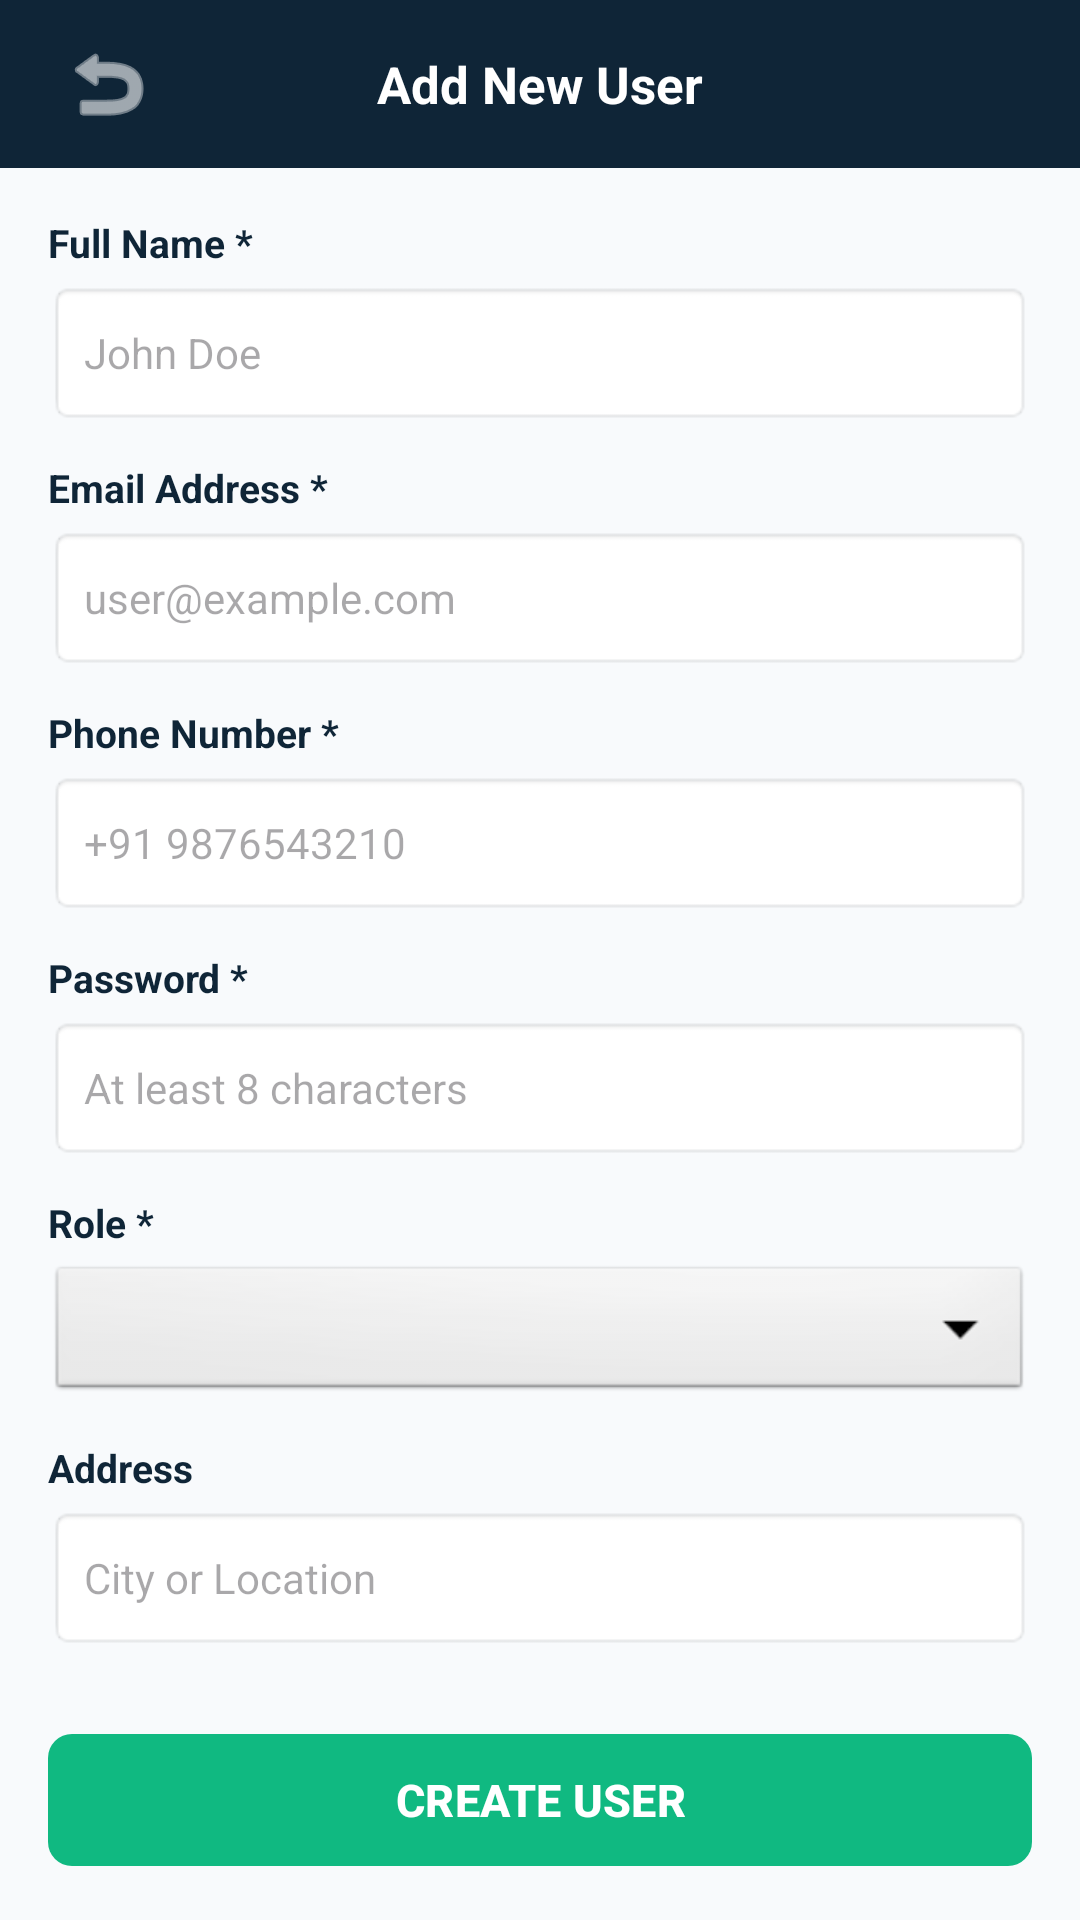

Screen size 1080x1920. Icon name, then its box in pixels as (x1, y1, x2, y2):
Back: (75, 53, 144, 116)
